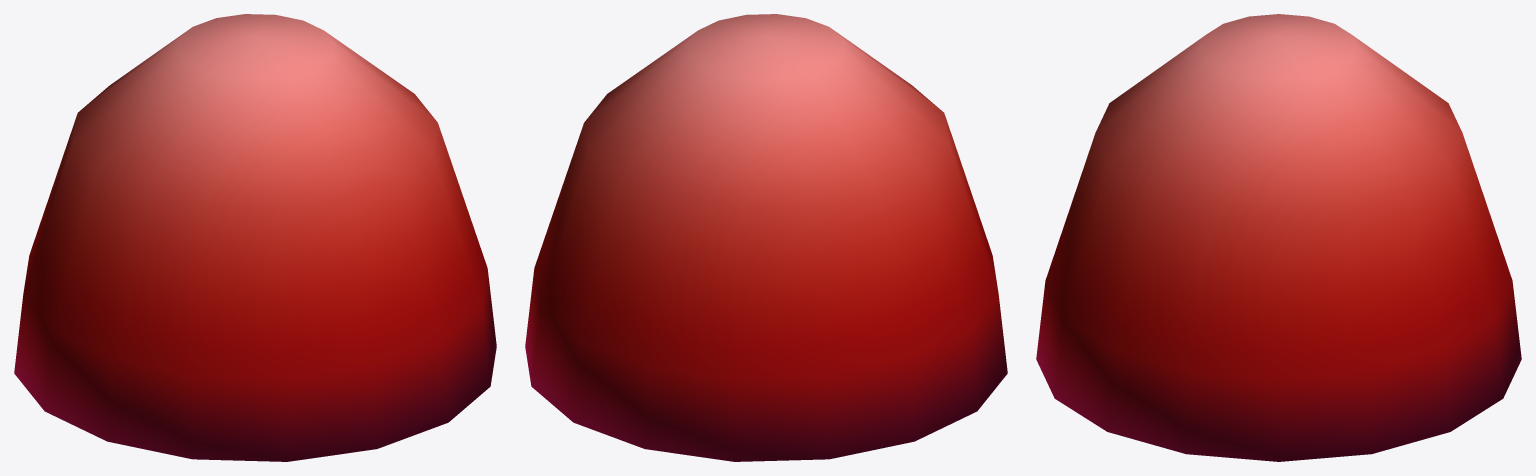
The model's file is W2_OBSTACLE_1.fbx.
3 renders of one model, left to right at view 1: azimuth 30°, elevation 25°; view 2: azimuth 150°, elevation 25°; view 3: azimuth 270°, elevation 25°, orthographic.
Parts seen in each view (by area): view 1: W2_OBSTACLE_1; view 2: W2_OBSTACLE_1; view 3: W2_OBSTACLE_1.
Boxes of the visible parts, x1=… form: W2_OBSTACLE_1: x1=14, y1=14, x2=496, y2=461; W2_OBSTACLE_1: x1=525, y1=14, x2=1007, y2=461; W2_OBSTACLE_1: x1=1036, y1=14, x2=1521, y2=461.
Bounding box in the file's own units: 486 × 371 × 486.
